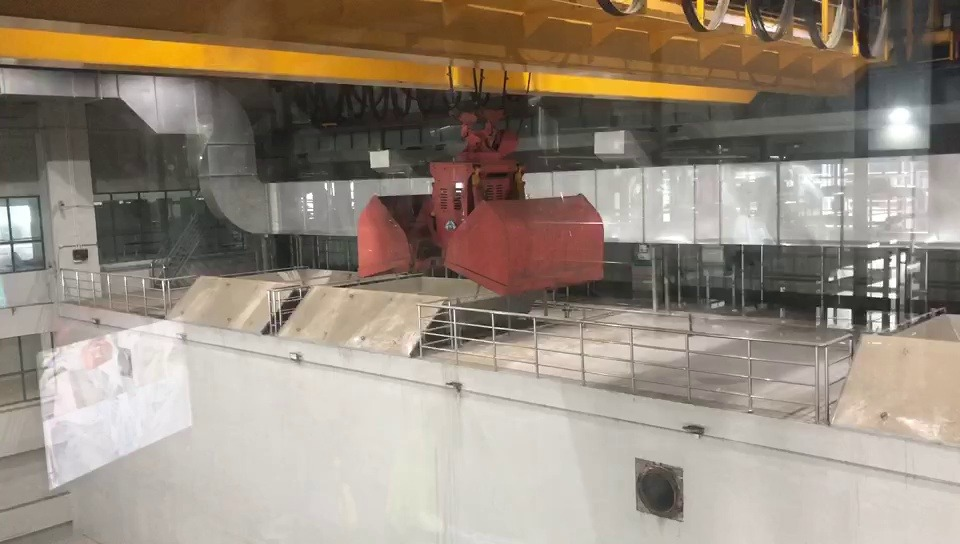grab: (348, 98, 613, 302)
